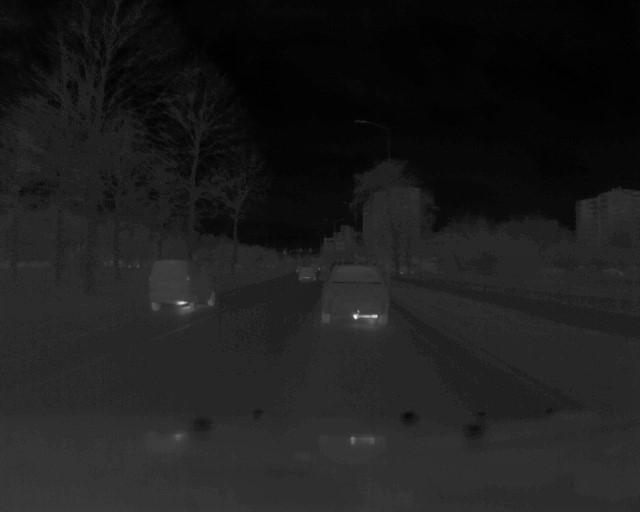car: (318, 261, 394, 325), (146, 257, 224, 310), (294, 264, 320, 282)
